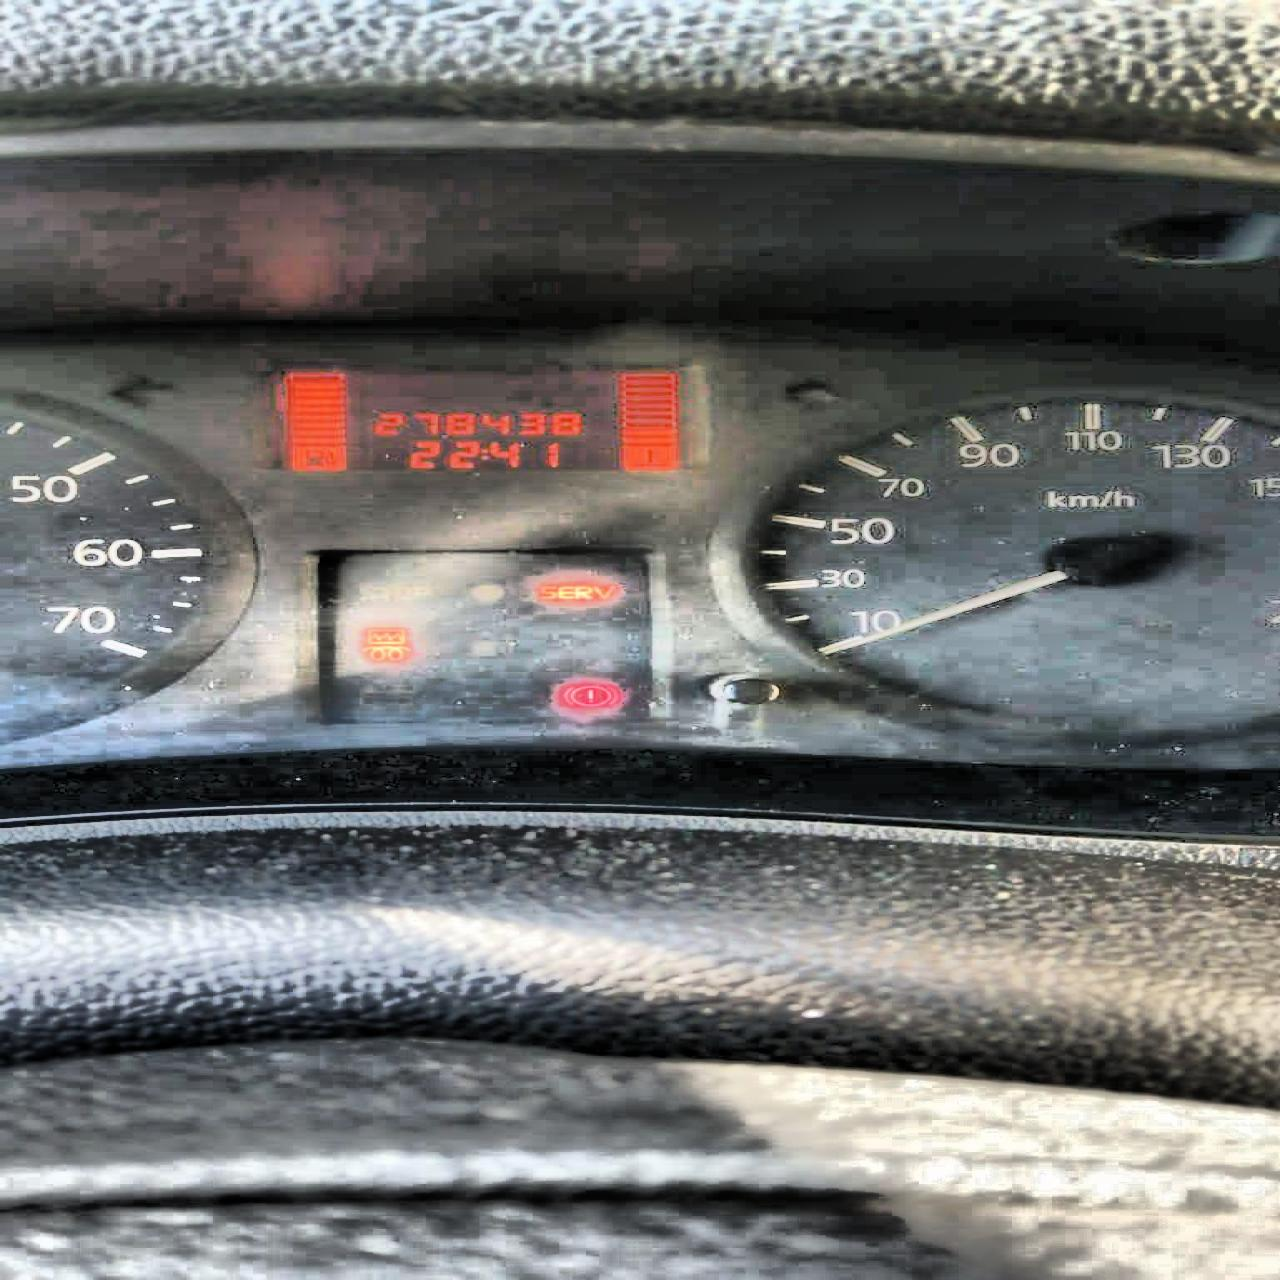1: (546, 442, 559, 468)
2: (408, 441, 440, 468), (448, 441, 479, 468), (373, 413, 401, 435)
3: (516, 413, 544, 435)
4: (488, 441, 519, 468), (482, 415, 508, 436)
7: (413, 411, 440, 435)
8: (443, 413, 475, 434), (550, 413, 579, 434)
X: (477, 448, 488, 461)
odometer: (254, 361, 704, 475)
